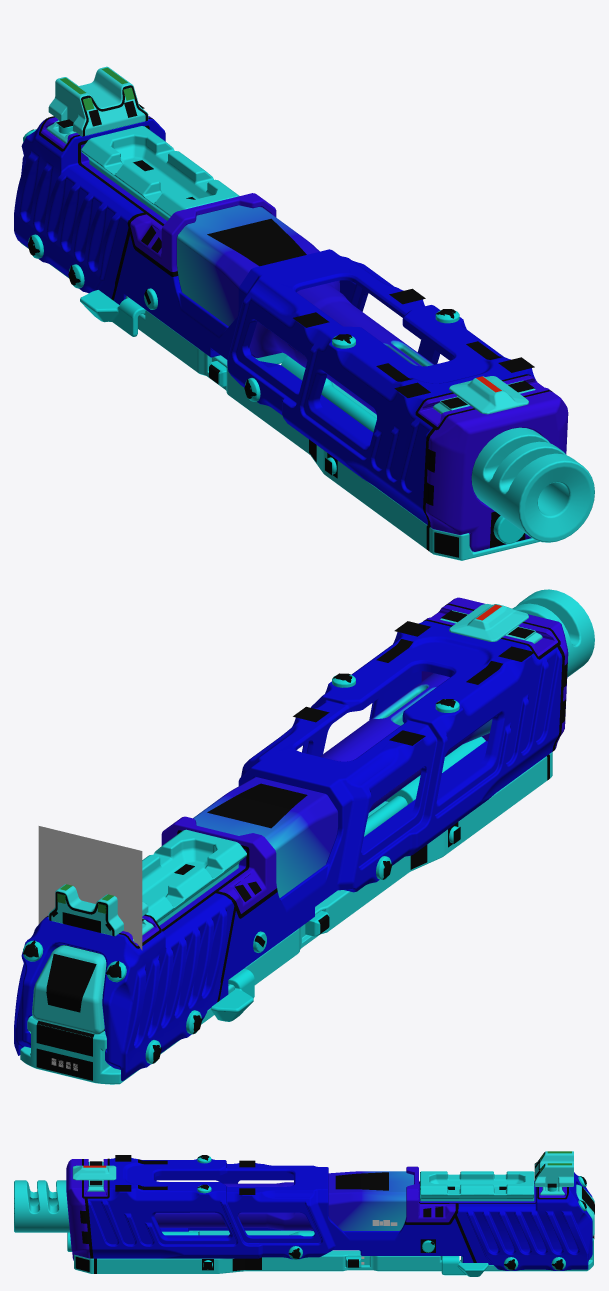
Rendered from Front_Pistol_1.glb.
3 renders of one model, top to bottom at view 1: azimuth 30°, elevation 25°; view 2: azimuth 150°, elevation 25°; view 3: azimuth 270°, elevation 25°, orthographic. The views are drawn at different scales.
Visible parts, largest first — view 1: Front_Pistol_1_Slide_1.001, Front_Pistol_1_1.001, DECAL_Front_Pistol_Slide_1, DECAL_Front_Pistol_1; view 2: Front_Pistol_1_Slide_1.001, Front_Pistol_1_1.001, DECAL_Front_Pistol_Slide_1, g_ironsight_hologlass, DECAL_Front_Pistol_1; view 3: Front_Pistol_1_Slide_1.001, Front_Pistol_1_1.001, DECAL_Front_Pistol_Slide_1, DECAL_Front_Pistol_1.
Boxes of the visible parts, left/top/right/bottom form: Front_Pistol_1_Slide_1.001: left=14, top=66, right=568, bottom=551; Front_Pistol_1_1.001: left=20, top=205, right=594, bottom=560; DECAL_Front_Pistol_Slide_1: left=27, top=67, right=552, bottom=547; DECAL_Front_Pistol_1: left=207, top=218, right=458, bottom=557; Front_Pistol_1_Slide_1.001: left=14, top=597, right=568, bottom=1081; Front_Pistol_1_1.001: left=20, top=589, right=594, bottom=1084; DECAL_Front_Pistol_Slide_1: left=23, top=603, right=567, bottom=1063; g_ironsight_hologlass: left=38, top=826, right=142, bottom=950; DECAL_Front_Pistol_1: left=36, top=754, right=549, bottom=1080; Front_Pistol_1_Slide_1.001: left=66, top=1151, right=594, bottom=1270; Front_Pistol_1_1.001: left=14, top=1171, right=593, bottom=1276; DECAL_Front_Pistol_Slide_1: left=80, top=1151, right=594, bottom=1269; DECAL_Front_Pistol_1: left=75, top=1172, right=594, bottom=1273.
Bounding box in the file's own units: 0.0452 × 0.0599 × 0.2426.
